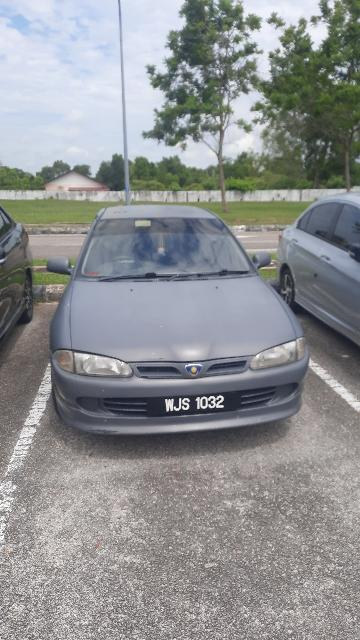License_Plate: (139, 387, 249, 418)
car: (41, 201, 310, 440)
